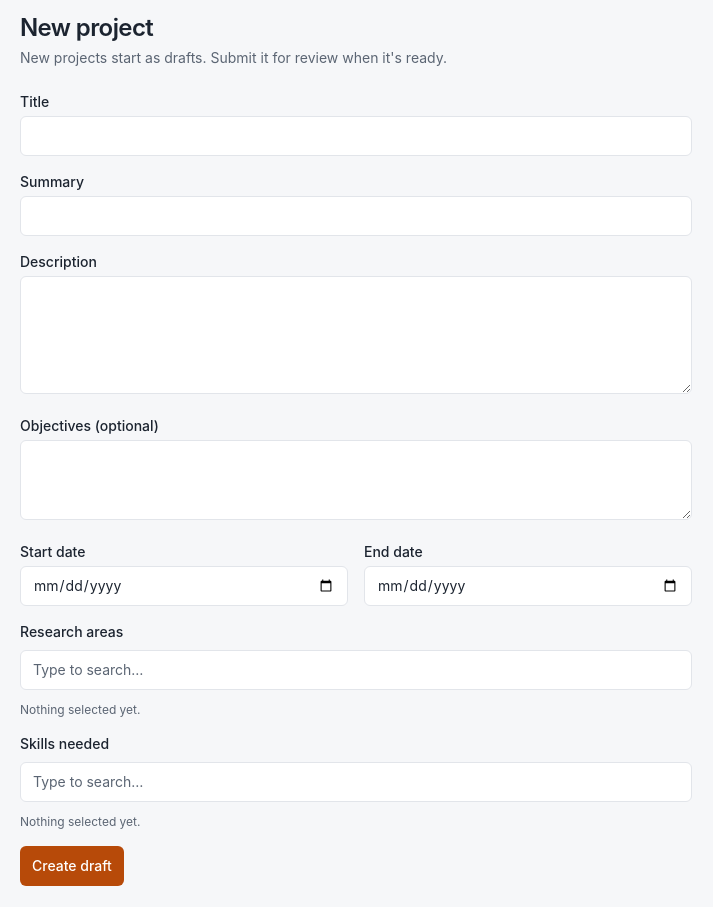
Scenario: ProjectFormPage › requires title, summary and description
This screenshot has width=713, height=907.
What coordinates should you click on to do the following:
click the button "Create draft"
I would click on:
 (72, 866)
Its box is [20, 846, 124, 886].
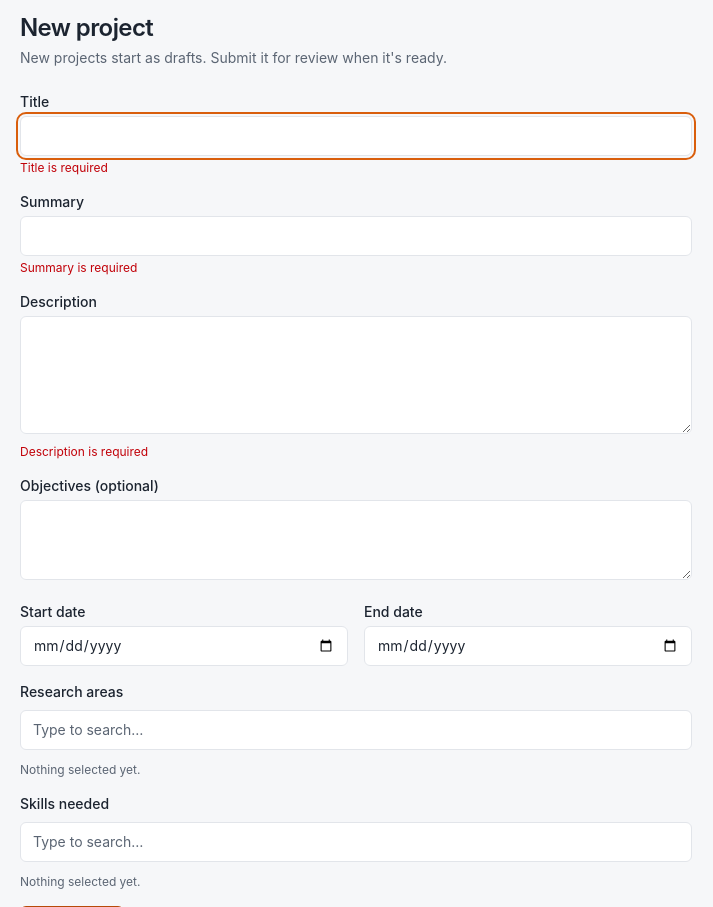
Check: the text "Title is required" is shown, box [20, 160, 108, 175]
Check: the text "Summary is required" is shown, box [20, 260, 137, 275]
Check: the text "Description is required" is shown, box [20, 444, 148, 459]
